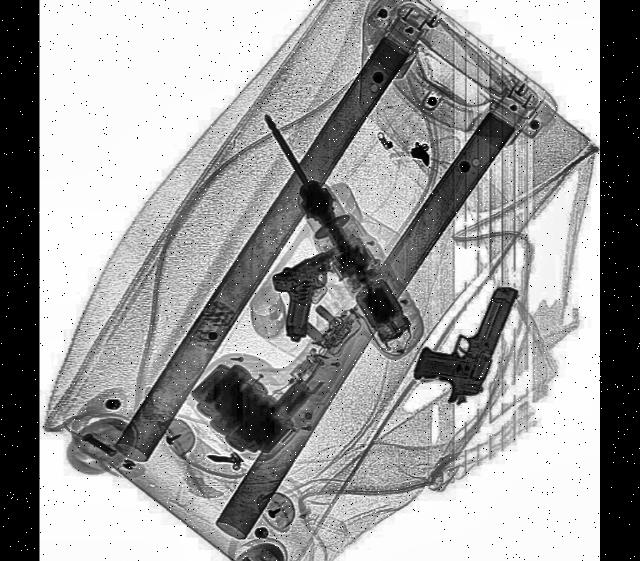Gun: (409, 253, 522, 418), (268, 238, 366, 344)
